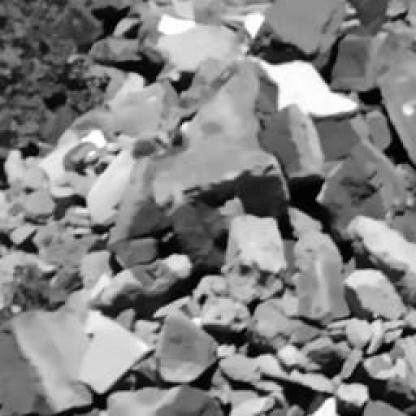cementitious_debris: (0, 1, 414, 413)
